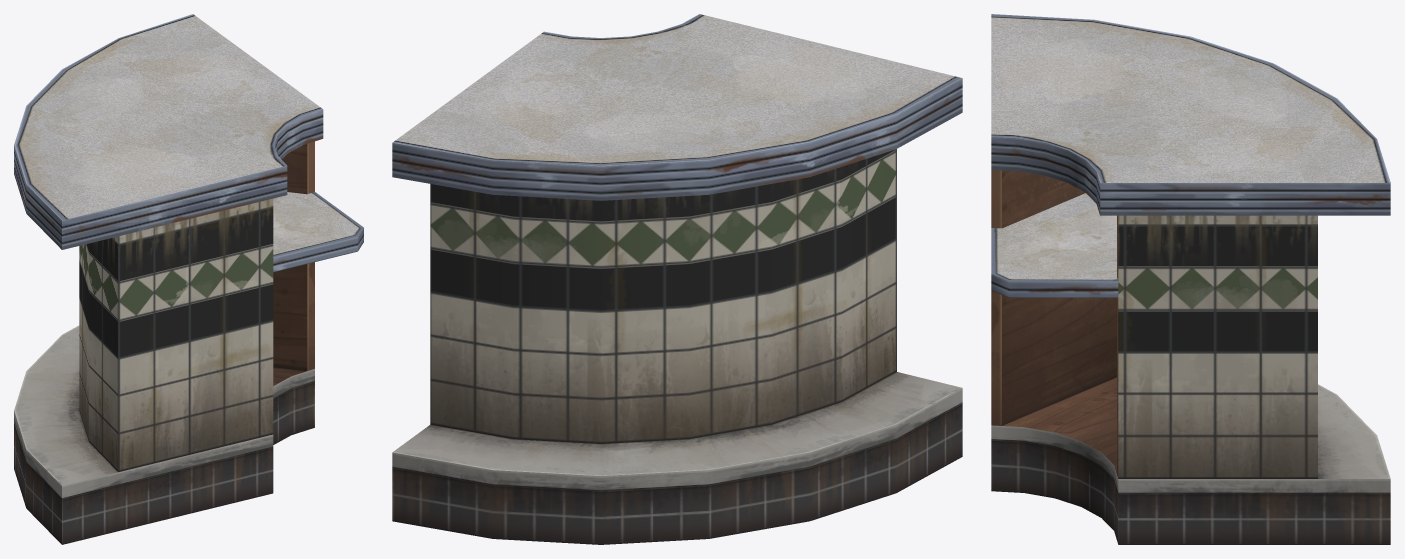
Rendered from diner_counter_corner.fbx.
3 renders of one model, left to right at view 1: azimuth 30°, elevation 25°; view 2: azimuth 150°, elevation 25°; view 3: azimuth 270°, elevation 25°, orthographic. The views are drawn at different scales.
Parts seen in each view (by area): view 1: diner_counter_corner; view 2: diner_counter_corner; view 3: diner_counter_corner.
Part boxes in pixels (box(x1,y1,x2,y2)): diner_counter_corner: box(14, 14, 363, 544); diner_counter_corner: box(392, 14, 962, 544); diner_counter_corner: box(991, 14, 1390, 544).
Bounding box in the file's own units: 110 × 110 × 110.
